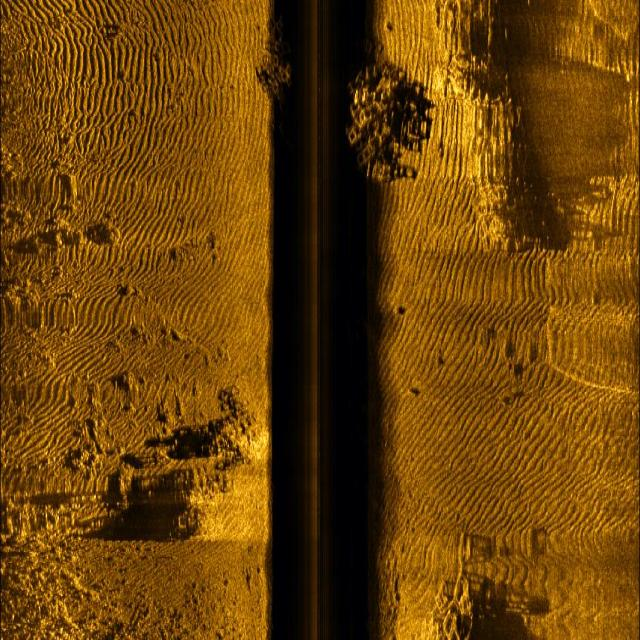artificial reef: (344, 35, 421, 196), (419, 541, 479, 640), (244, 21, 298, 117)
